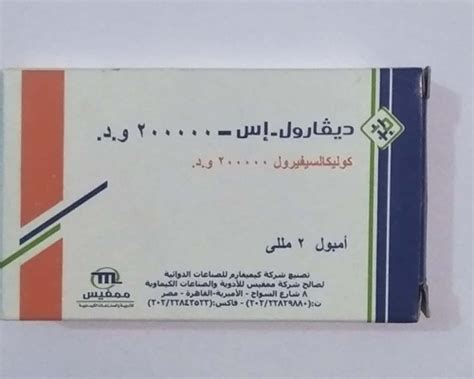Medicine: (3, 63, 427, 323)
